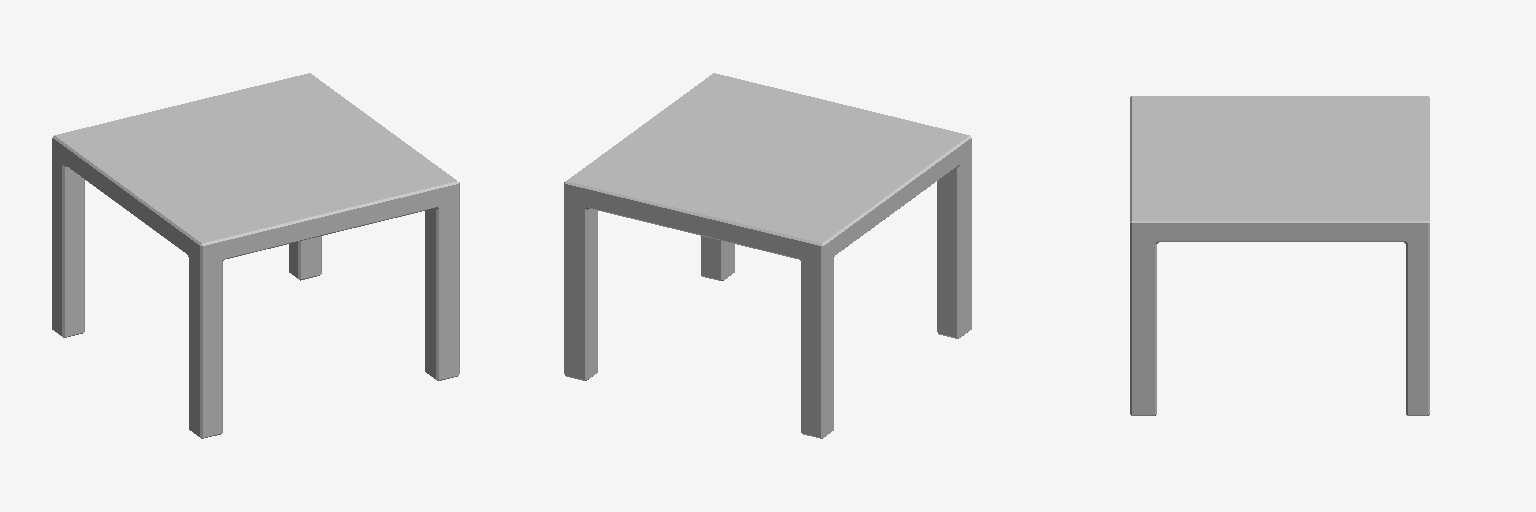
Rendered from tavolino_candela.obj.
The picture shows the model from 3 angles: view 1: azimuth 30°, elevation 25°; view 2: azimuth 150°, elevation 25°; view 3: azimuth 270°, elevation 25°; orthographic projection.
Visible parts, largest first — view 1: Cube; view 2: Cube; view 3: Cube.
Part boxes in pixels (x1,y1,x2,y2): Cube: (52, 73, 459, 438); Cube: (564, 73, 971, 438); Cube: (1130, 96, 1429, 415).
Size of the model in its own units: 2 by 1.44 by 2.